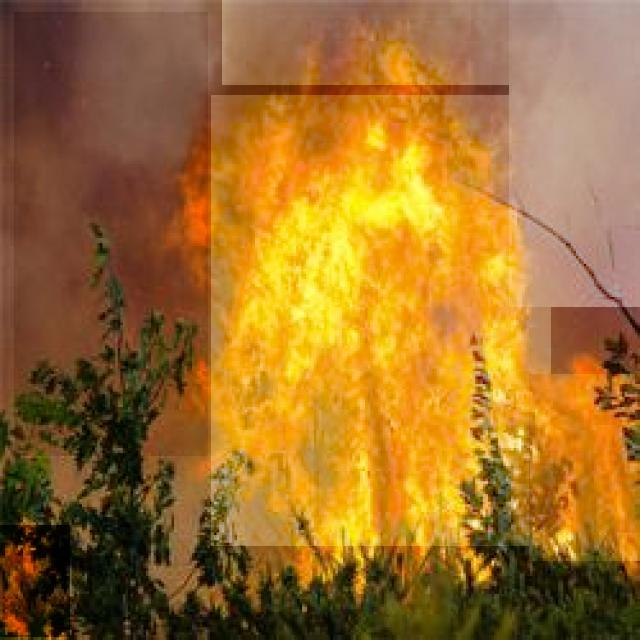Fire: (212, 95, 552, 546), (529, 374, 640, 561), (0, 525, 70, 637)
Smoke: (14, 12, 208, 456), (509, 0, 640, 307), (222, 0, 542, 85)
